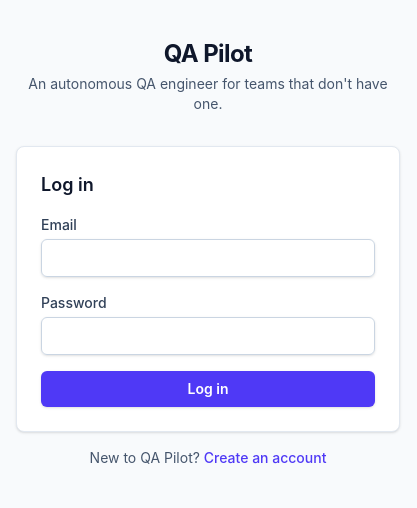
Test: auth › shows the error from a failed login
The image size is (417, 508).
Type "alice@example.com" into the field labelled "Email". click: (208, 258)
box: [41, 239, 375, 277]
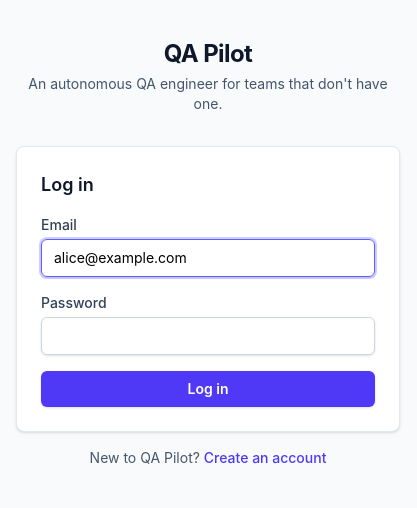
Type "correct-horse" into the password field labelled "Password". click: (208, 336)
box: [41, 317, 375, 355]
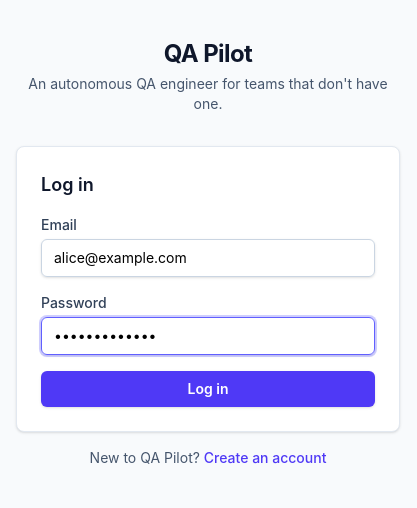
Click the button "Log in". click: (208, 389)
box: [41, 371, 375, 407]
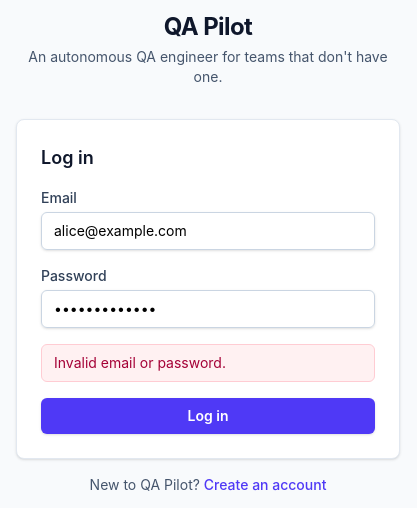
Result: the message reads "Invalid email or password." at [54, 354, 226, 371]
